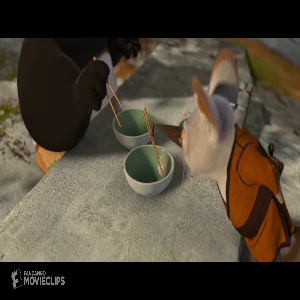shifu: (154, 45, 296, 261)
